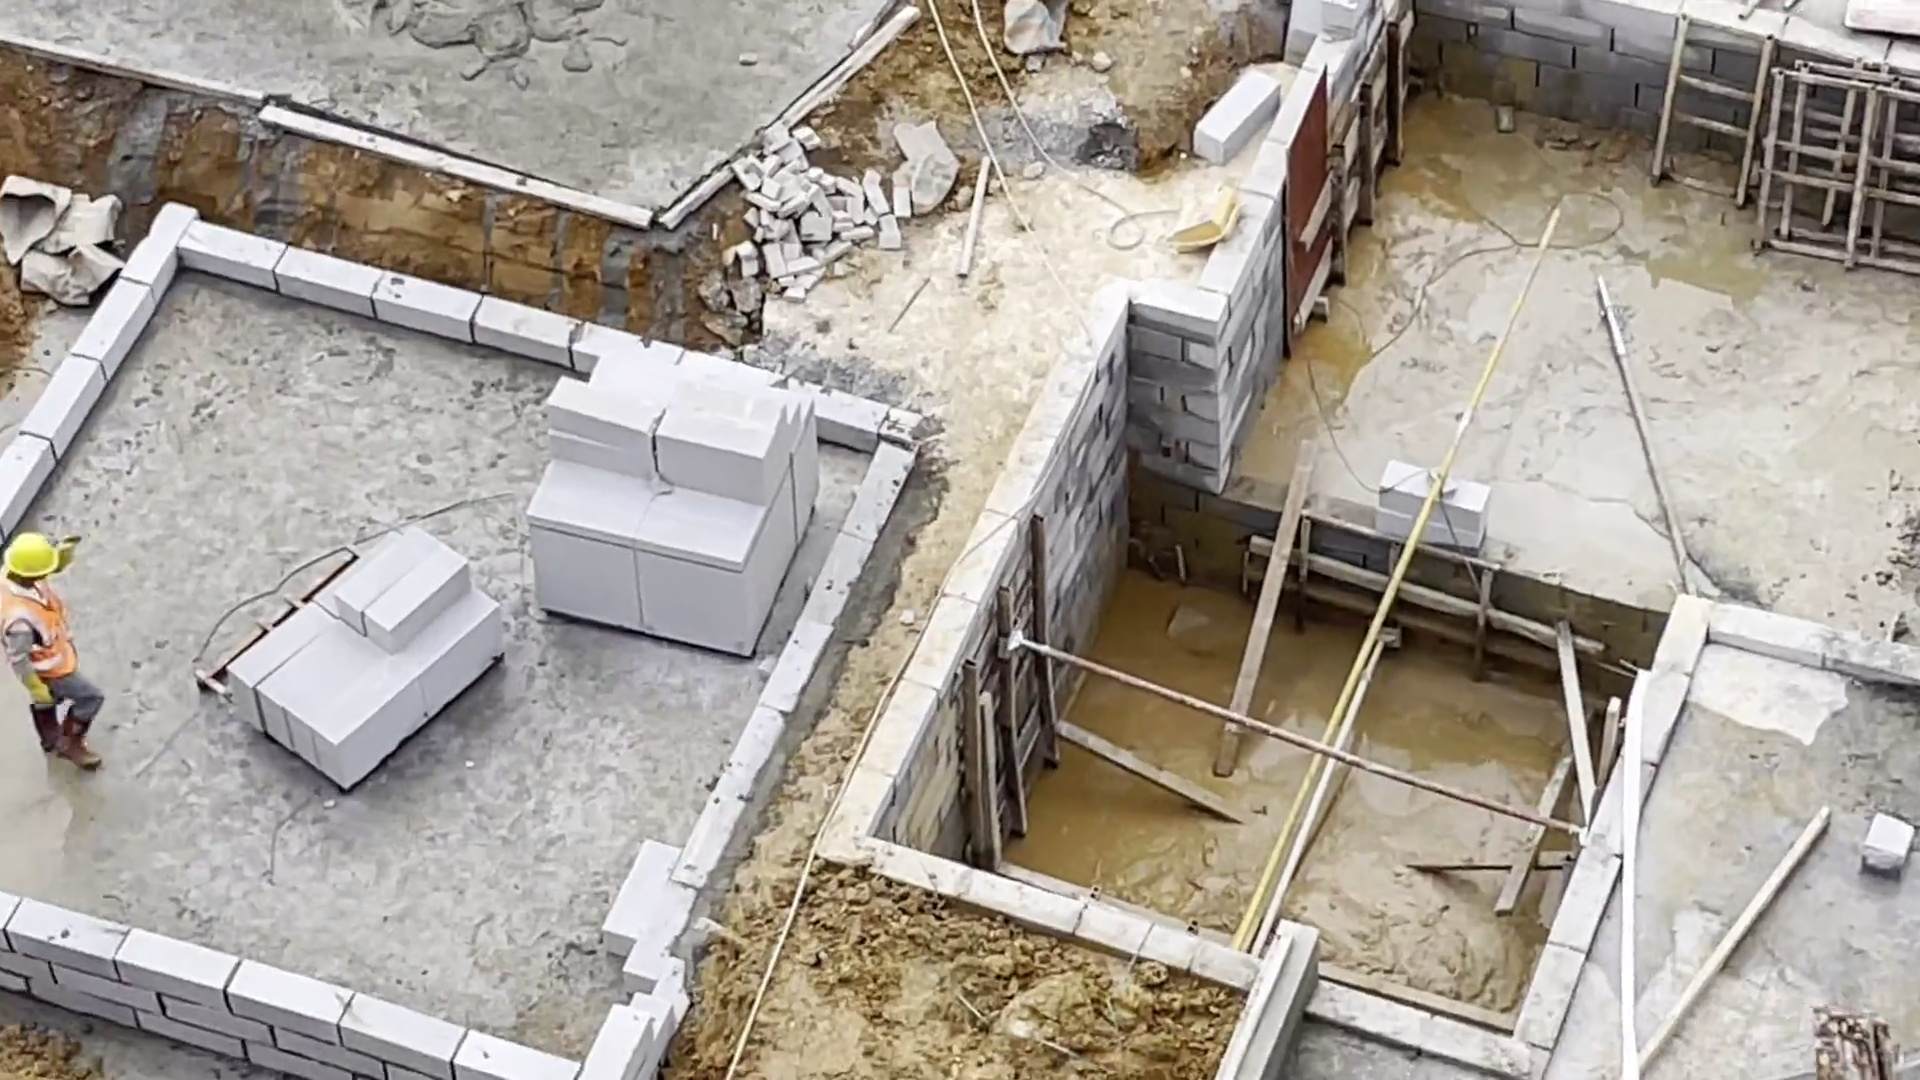brick: (526, 341, 818, 659), (224, 517, 502, 790)
helmet: (1, 533, 62, 583)
person: (1, 531, 111, 772)
vest: (1, 587, 78, 679)
